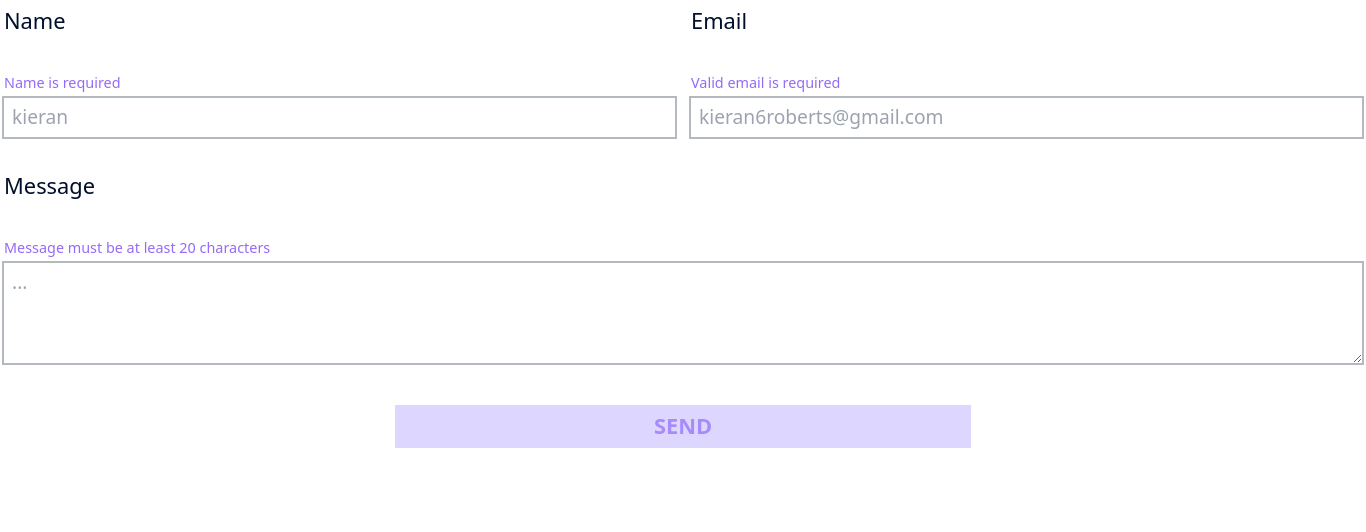
<Button /> › successful submission
Type "Kieran" into the field labelled "Name Name is required" at (340, 117), box x1=4 y1=98 x2=675 y2=137
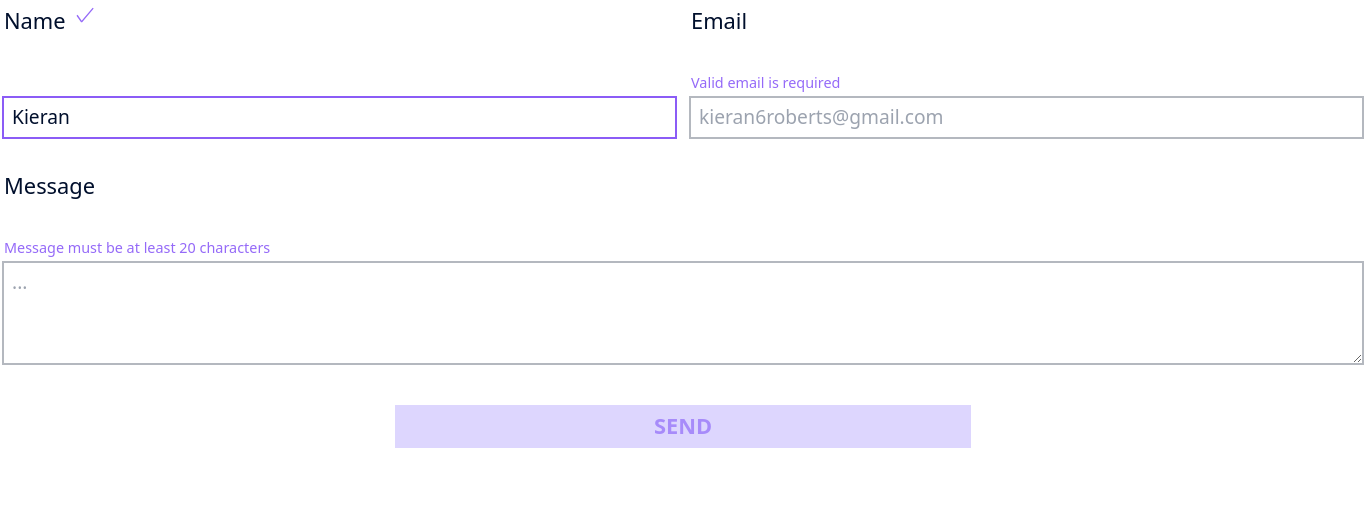
Type "Kieran@test.com" into the field labelled "Email Valid email is required" at (1026, 117), box x1=691 y1=98 x2=1362 y2=137
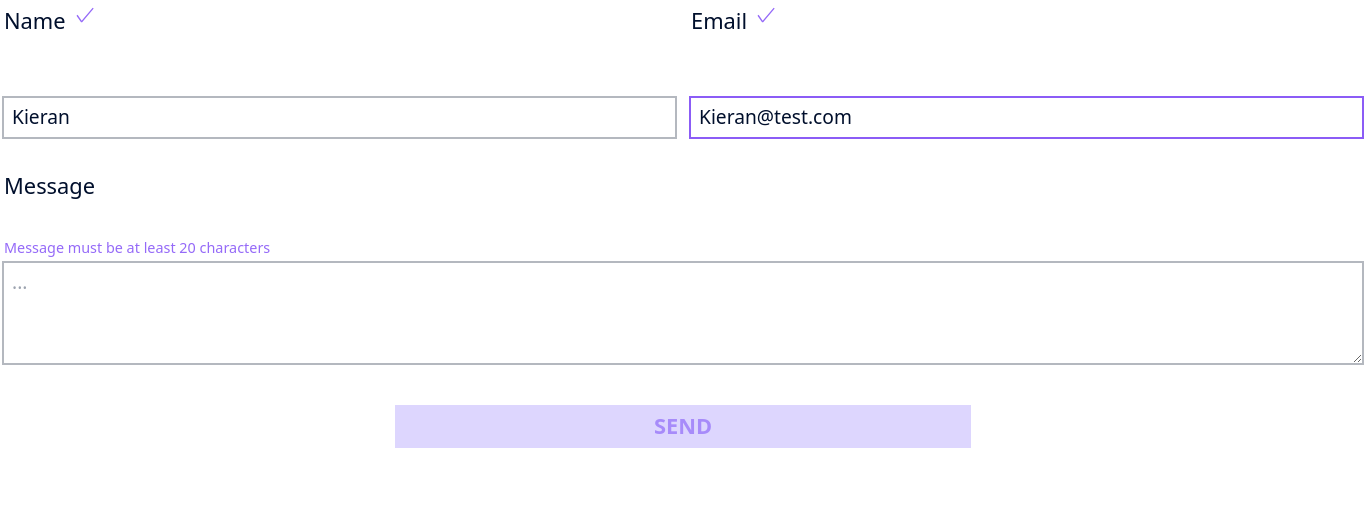
Type "This is a passing message!" into the text box labelled "Message Message must be at least 20 characters" at (683, 313), box x1=4 y1=263 x2=1362 y2=363
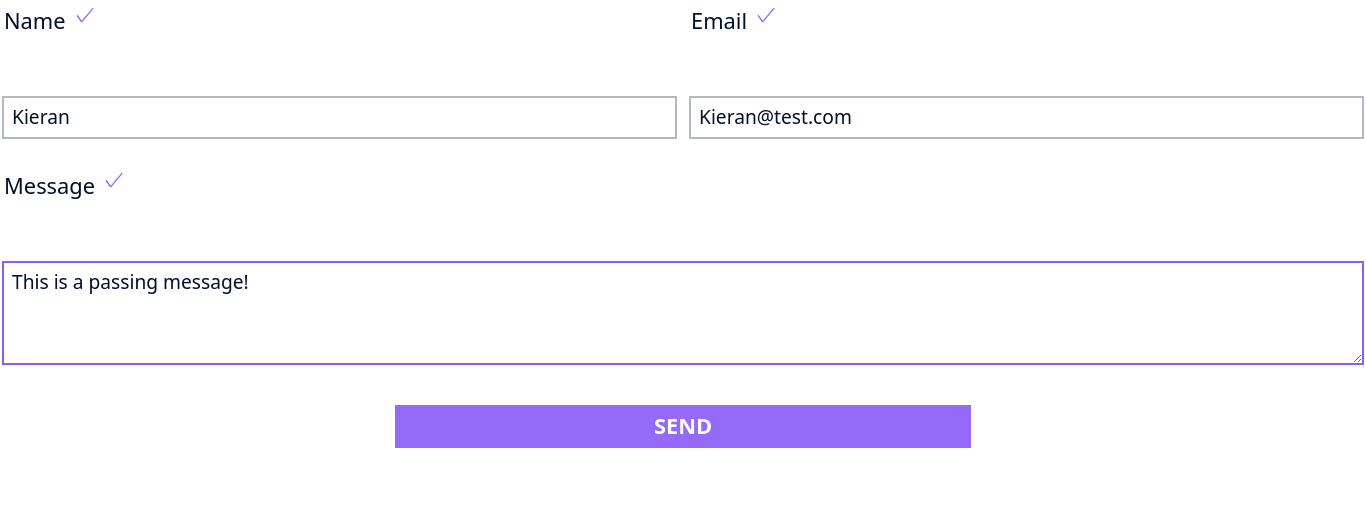
Expected: the text "Form submit successful! I'll get back to you as soon as possible." is not shown
Submit the form with test id "form"
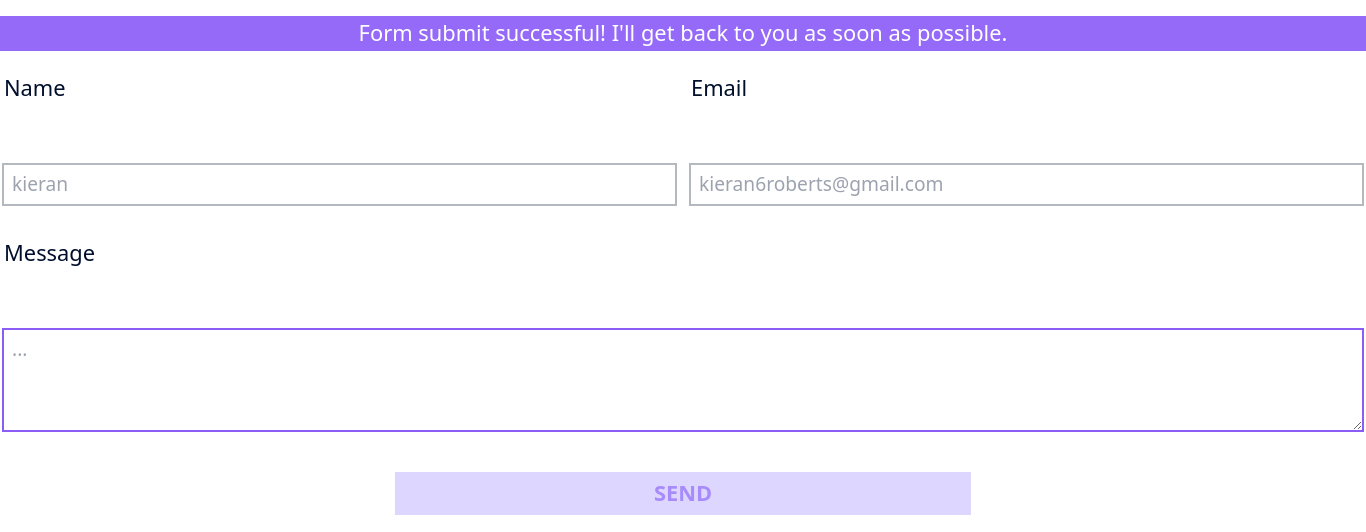
Expected: the text "Form submit successful! I'll get back to you as soon as possible." is shown, x1=0 y1=16 x2=1365 y2=51
Expected: the field labelled "Name" is empty, x1=4 y1=165 x2=675 y2=204
Expected: the field labelled "Email" is empty, x1=691 y1=165 x2=1362 y2=204
